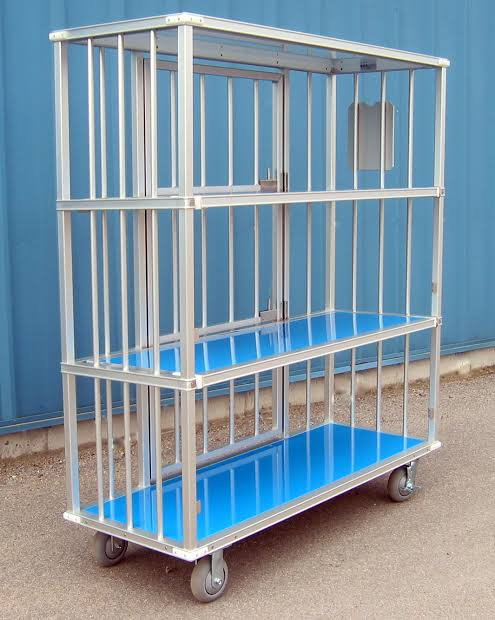Carts: (46, 11, 450, 607)
